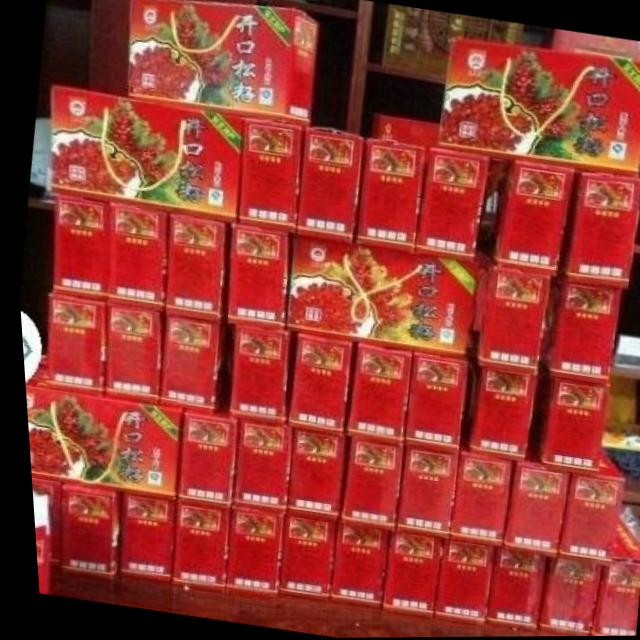box: (436, 39, 640, 180), (42, 84, 241, 223), (126, 0, 319, 127), (281, 236, 475, 360), (20, 387, 178, 500), (555, 173, 640, 289), (488, 162, 573, 277), (525, 366, 605, 479), (534, 279, 619, 384), (412, 148, 489, 263), (474, 266, 547, 376), (551, 447, 617, 568), (235, 118, 303, 235), (293, 128, 361, 245), (355, 138, 422, 255), (223, 223, 286, 333), (461, 368, 534, 462), (101, 205, 165, 312), (341, 342, 407, 444), (46, 197, 109, 303), (161, 215, 222, 324), (399, 352, 464, 454), (496, 461, 563, 559), (222, 325, 287, 425), (283, 334, 346, 435), (39, 295, 101, 397), (582, 517, 634, 637), (169, 411, 232, 509), (333, 437, 397, 532), (154, 317, 215, 415), (389, 446, 452, 540), (226, 420, 286, 518), (443, 452, 504, 548), (278, 429, 340, 522), (100, 306, 158, 405), (54, 483, 113, 579), (320, 524, 383, 609), (374, 533, 435, 619), (216, 510, 275, 597), (426, 541, 486, 626), (112, 494, 169, 582), (165, 502, 222, 590), (478, 550, 537, 634), (270, 517, 327, 602), (531, 559, 593, 637)
